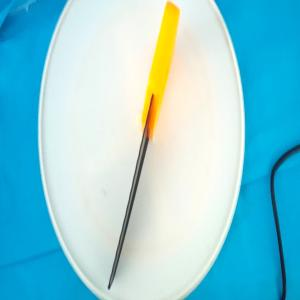serrote: (107, 1, 180, 290)
